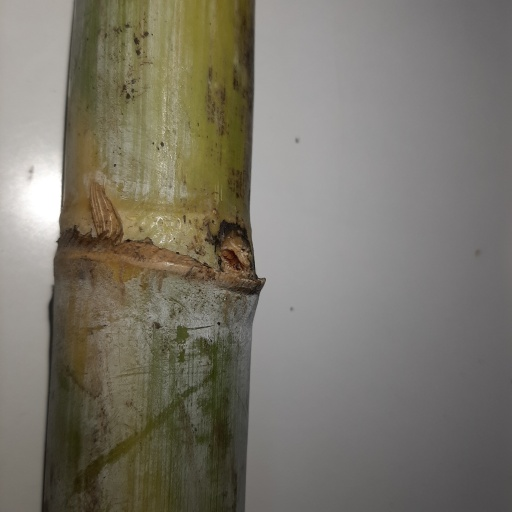Damage_Bud: (218, 228, 254, 276)
